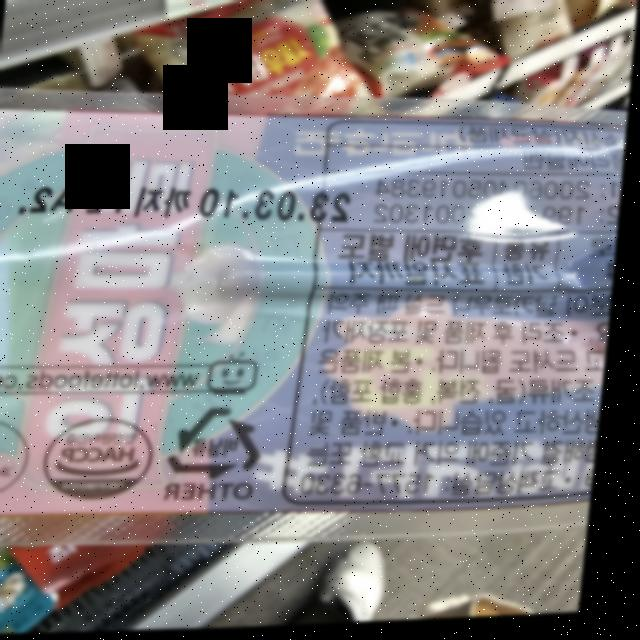Vinyl: (171, 403, 278, 484)
